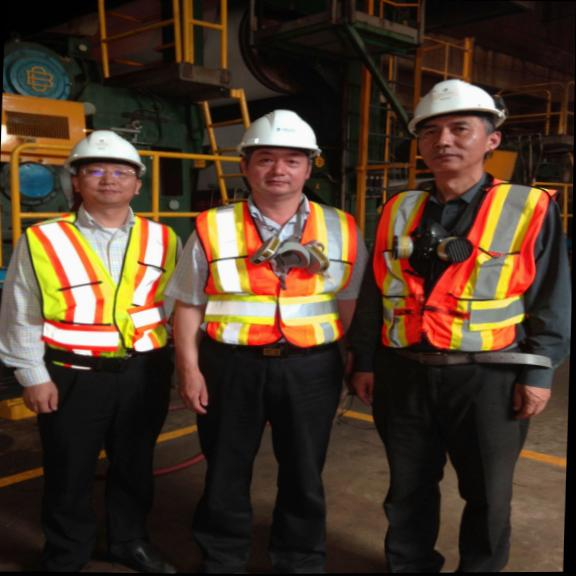safety_vest: (380, 176, 555, 370), (184, 193, 364, 370), (23, 216, 188, 370)
